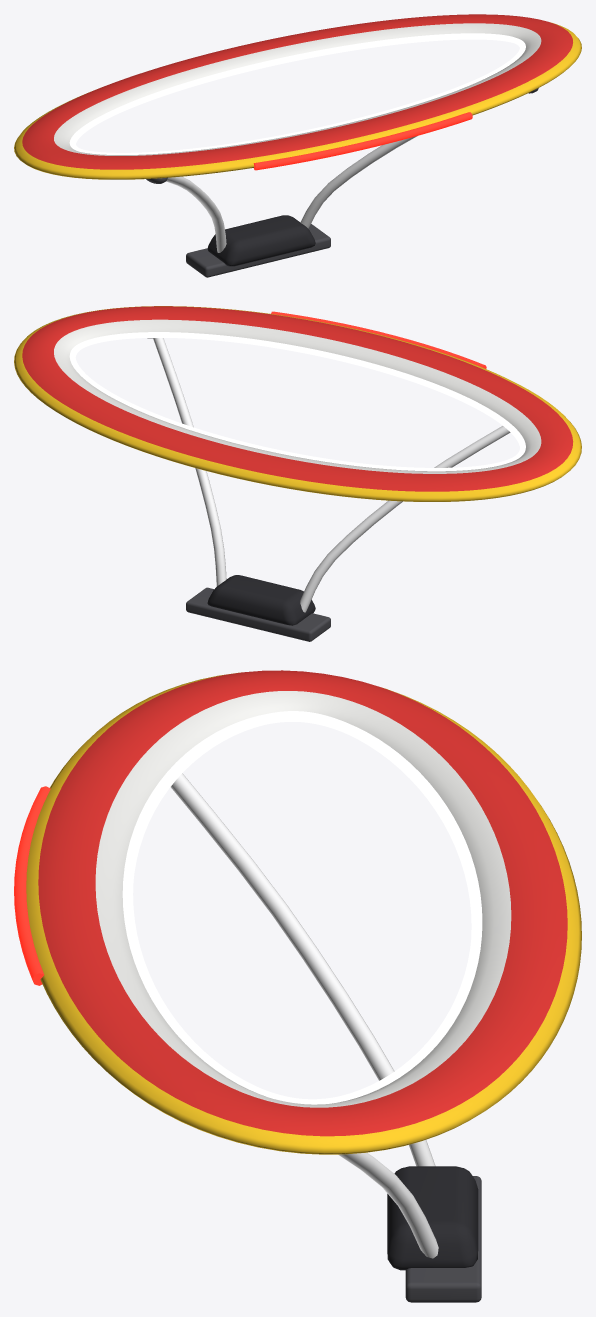
Rendered from spoiler_halo.glb.
3 renders of one model, top to bottom at view 1: azimuth 30°, elevation 25°; view 2: azimuth 150°, elevation 25°; view 3: azimuth 270°, elevation 25°, orthographic. The views are drawn at different scales.
Visible parts, largest first — view 1: spoiler_halo; view 2: spoiler_halo; view 3: spoiler_halo.
Boxes of the visible parts, x1,y1,x2,y2 form: spoiler_halo: [14, 14, 581, 277]; spoiler_halo: [14, 306, 581, 641]; spoiler_halo: [14, 670, 581, 1302].
Size of the model in its own units: 1.04 by 0.3743 by 0.5215.
